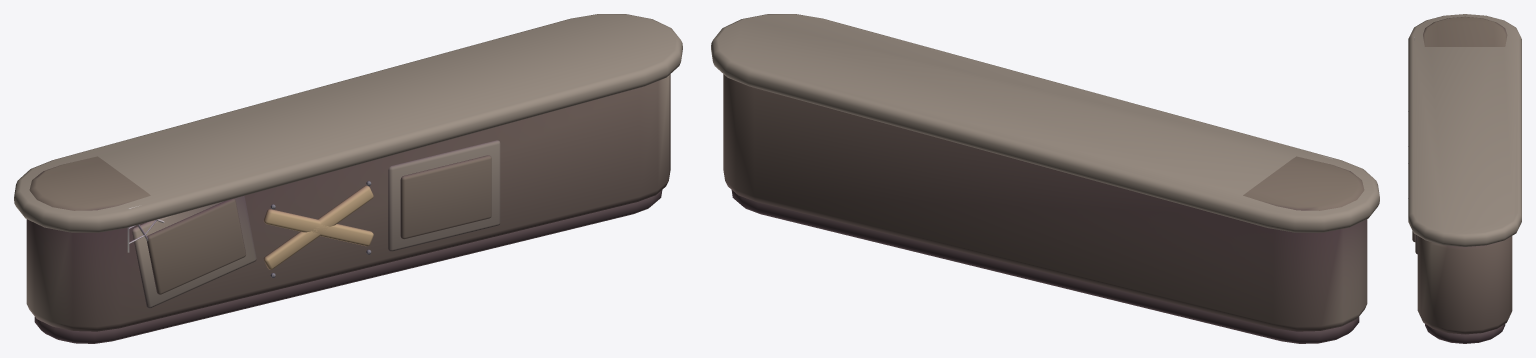
File: counter_broken.glb
3 renders of one model, left to right at view 1: azimuth 30°, elevation 25°; view 2: azimuth 150°, elevation 25°; view 3: azimuth 270°, elevation 25°, orthographic. The views are drawn at different scales.
Parts seen in each view (by area): view 1: counter_broken; view 2: counter_broken; view 3: counter_broken.
Part boxes in pixels (x1,y1,x2,y2): counter_broken: (14,14,682,343); counter_broken: (711,14,1379,343); counter_broken: (1408,14,1521,343).
Bounding box in the file's own units: 4.76 × 1.08 × 0.9621.
